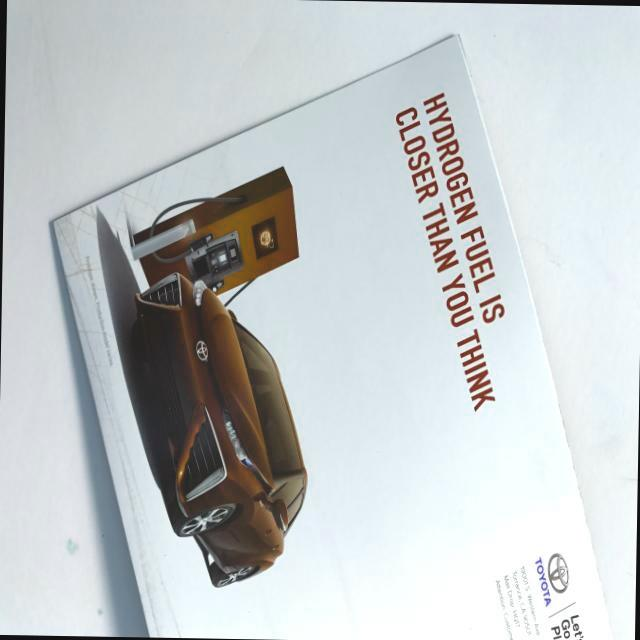paper: (32, 0, 629, 640)
